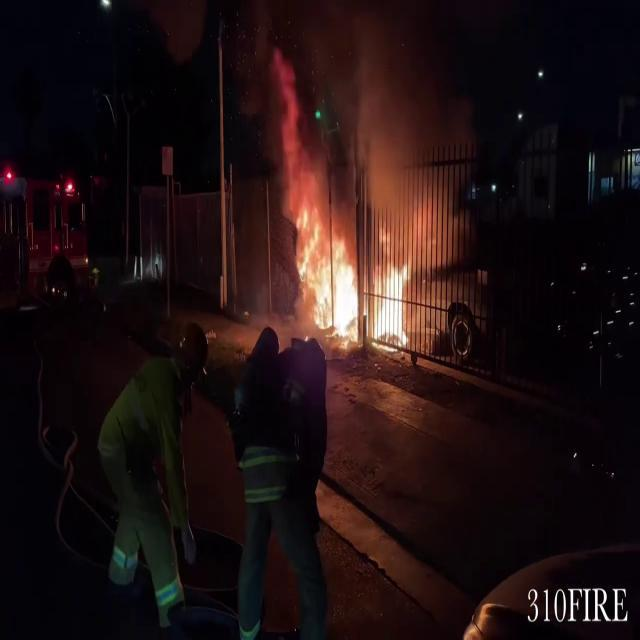Fire: (295, 210, 424, 352)
Smoke: (262, 0, 482, 218)
